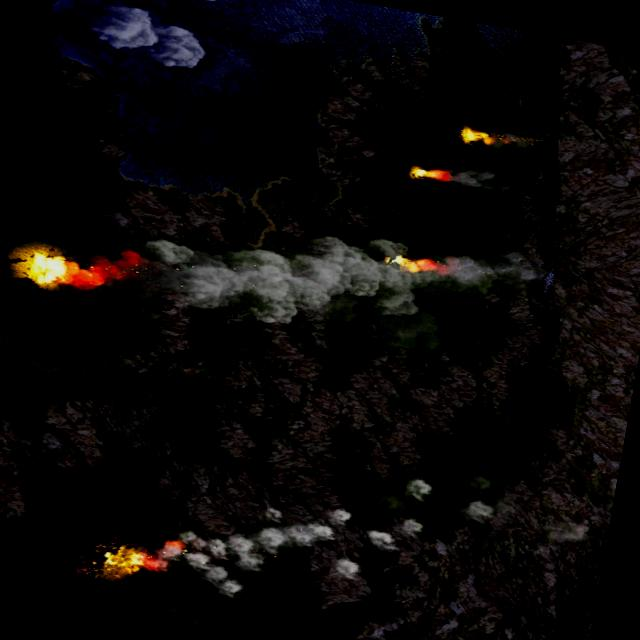fire: (102, 543, 160, 582), (22, 250, 72, 290), (388, 251, 436, 277), (409, 163, 452, 184), (451, 123, 482, 146)
smoke: (64, 186, 423, 368), (158, 472, 428, 626), (71, 0, 248, 79), (434, 240, 546, 295), (449, 164, 504, 195), (481, 128, 536, 155), (456, 498, 496, 524), (400, 476, 433, 506)
